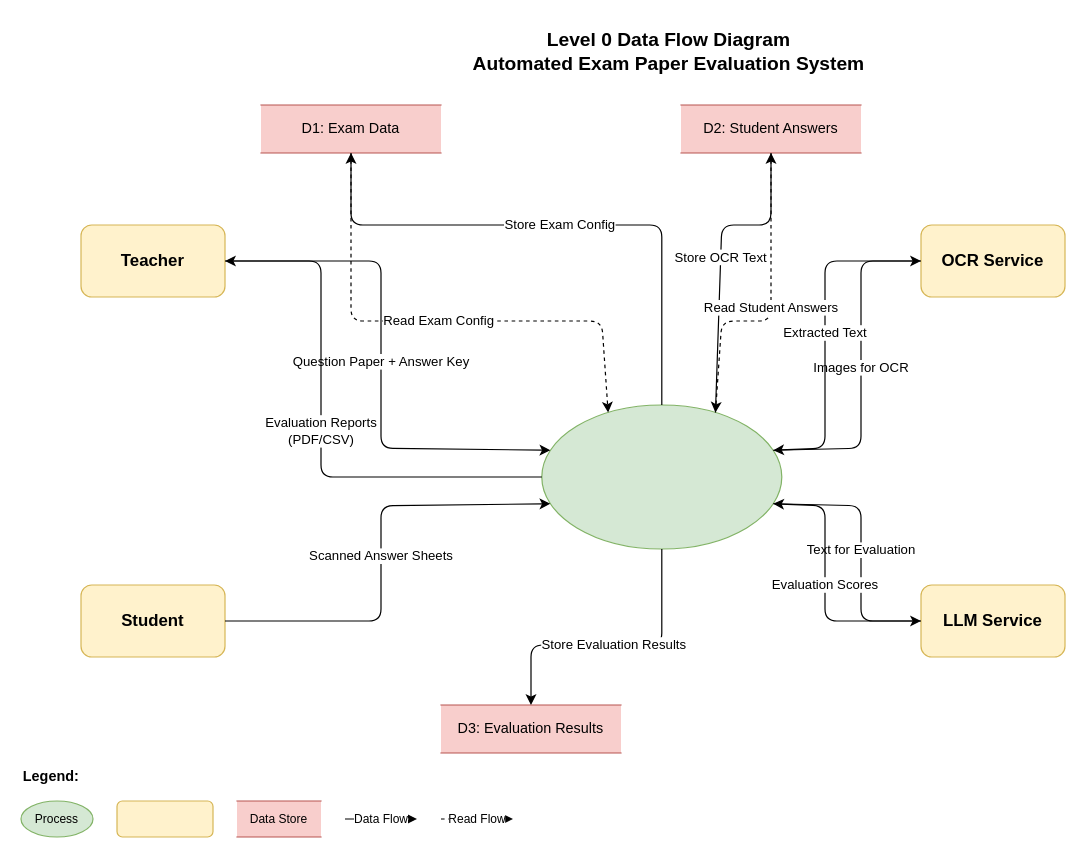
The diagram is 1086 pixels wide and 858 high, and some of its shapes have lost their labels. Here are the shapes that lost their labels. From the top down, the box of each, then its label:
(541, 404, 782, 549): 0 Automated Exam Paper Evaluation System
(116, 800, 213, 837): External Entity
